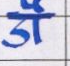au_matra: (25, 0, 50, 43)
